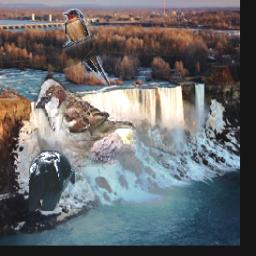Crow: (30, 150, 76, 211)
Sparrow: (35, 77, 137, 167)
Swallow: (63, 9, 110, 86)
